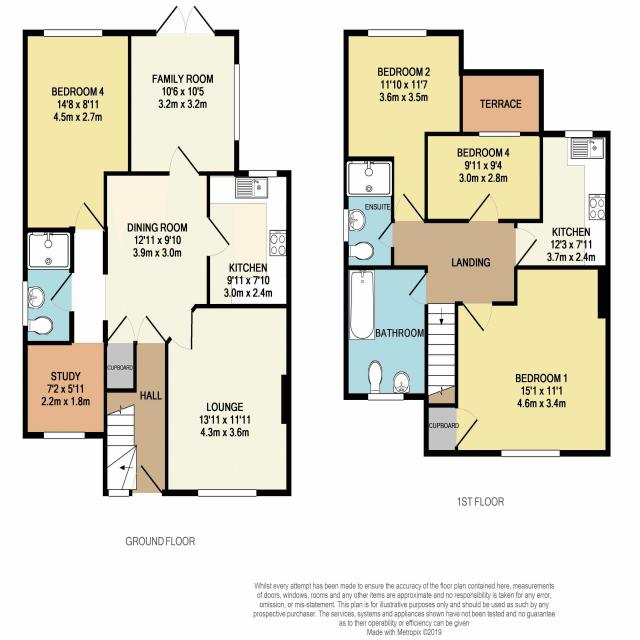DOOR: (462, 183, 504, 224), (455, 301, 497, 340), (391, 185, 431, 223), (206, 210, 234, 263), (513, 220, 541, 273), (47, 265, 75, 315), (169, 306, 196, 353), (129, 461, 164, 496), (167, 142, 202, 177), (73, 198, 107, 233), (403, 266, 429, 309)
DOUBLE DOOR: (153, 1, 216, 35)
ROOM: (423, 263, 611, 456), (162, 303, 291, 496), (343, 28, 464, 223), (23, 29, 132, 233), (512, 130, 611, 269), (425, 132, 543, 223)
WINDOW: (496, 444, 564, 463), (41, 22, 105, 40), (365, 24, 429, 40), (195, 486, 257, 498), (364, 387, 406, 404), (562, 123, 596, 141), (41, 429, 87, 441), (20, 276, 30, 328), (476, 128, 522, 139)
